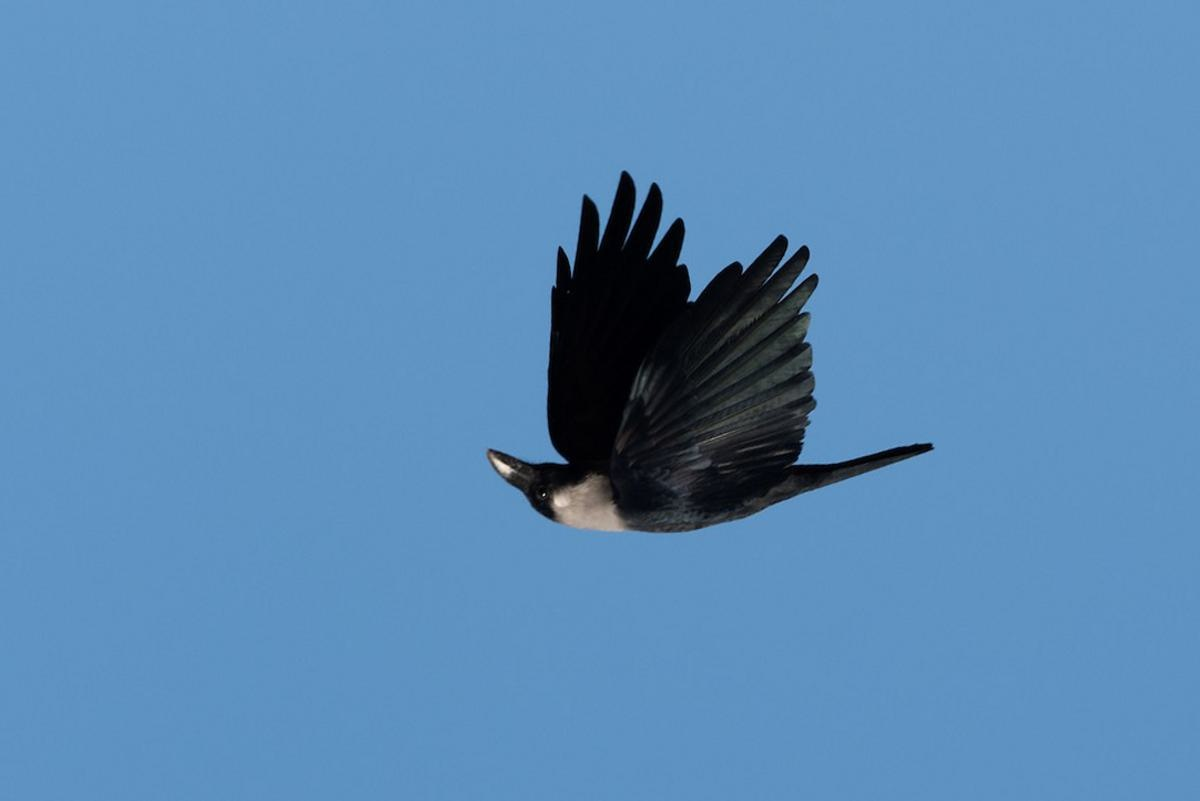crow: (453, 168, 951, 558)
